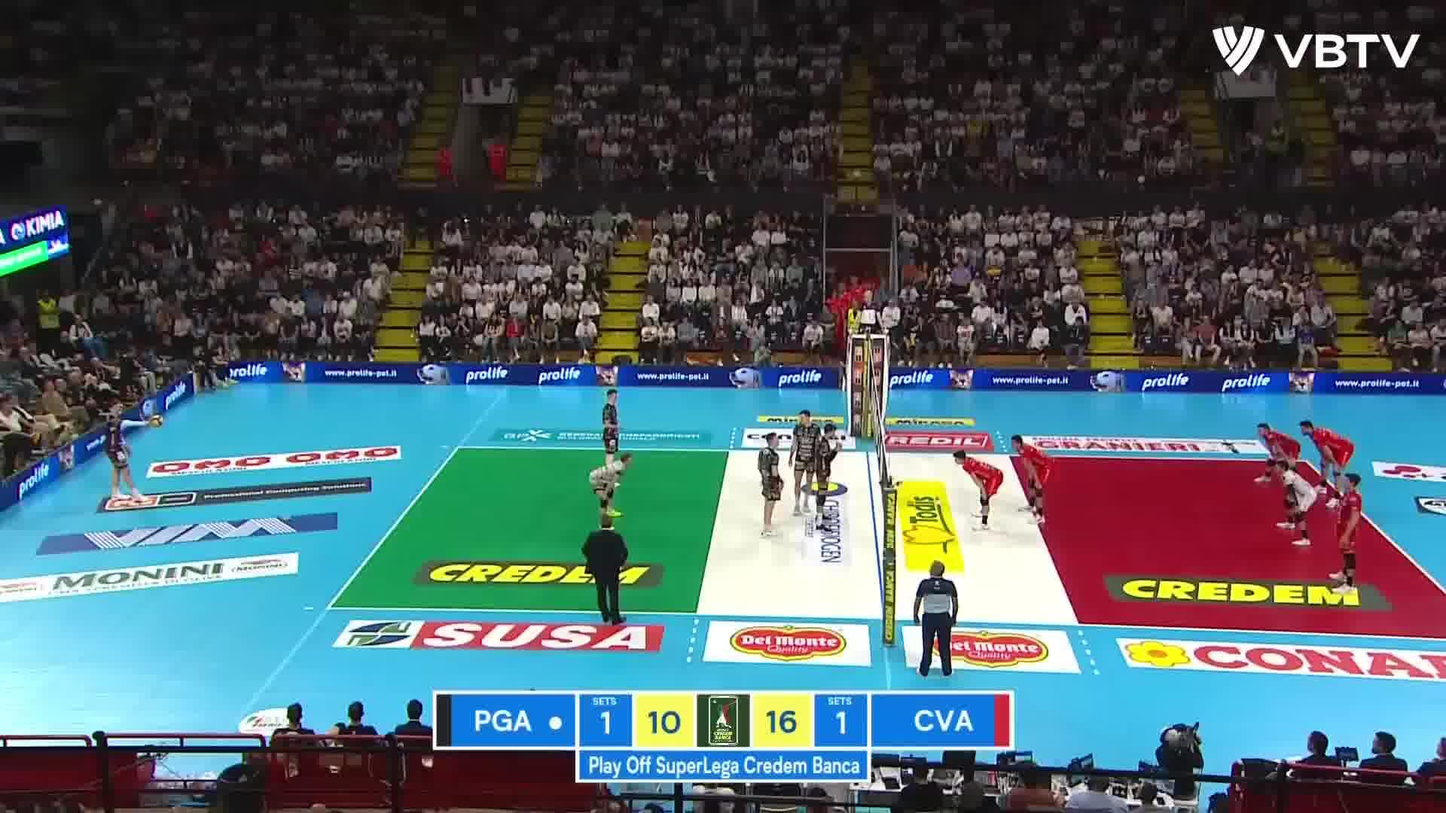balls: (148, 408, 169, 431)
